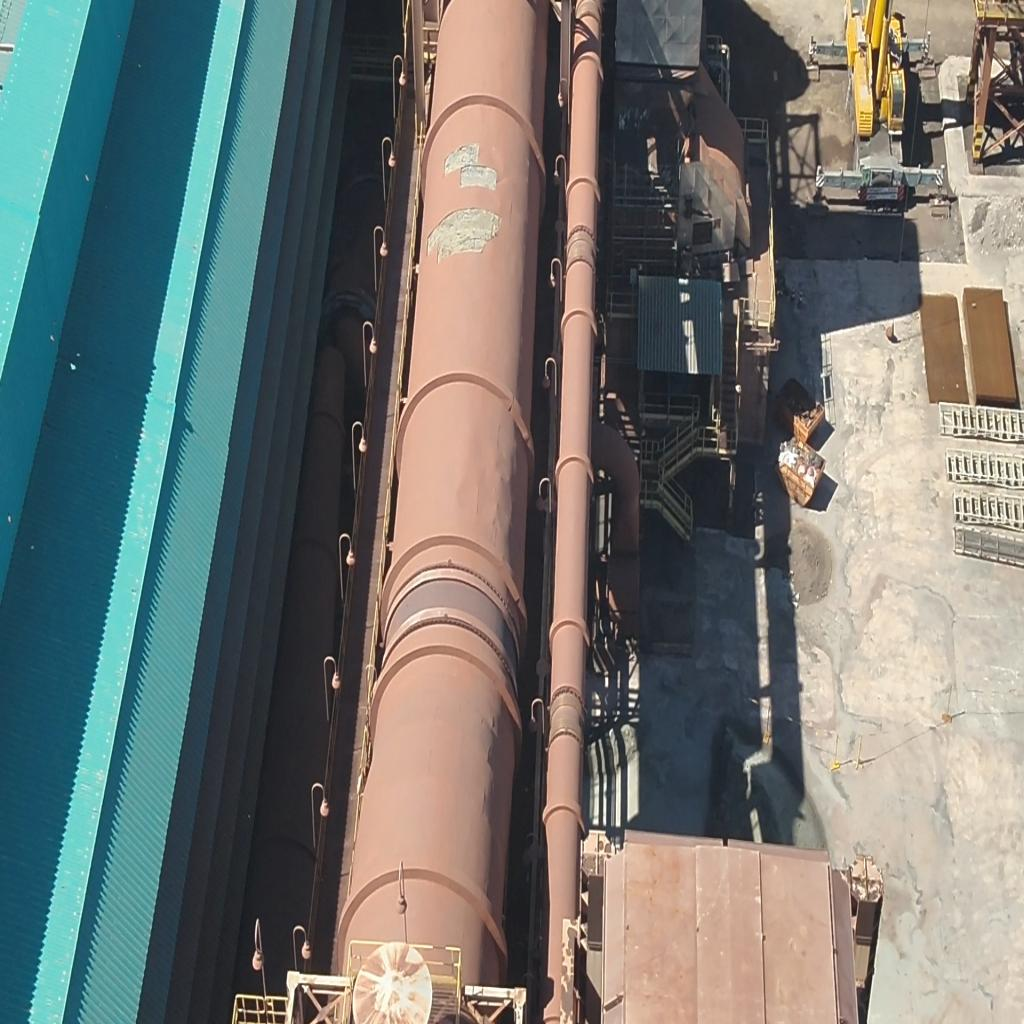Failures: (427, 207, 502, 256), (444, 142, 498, 192)
